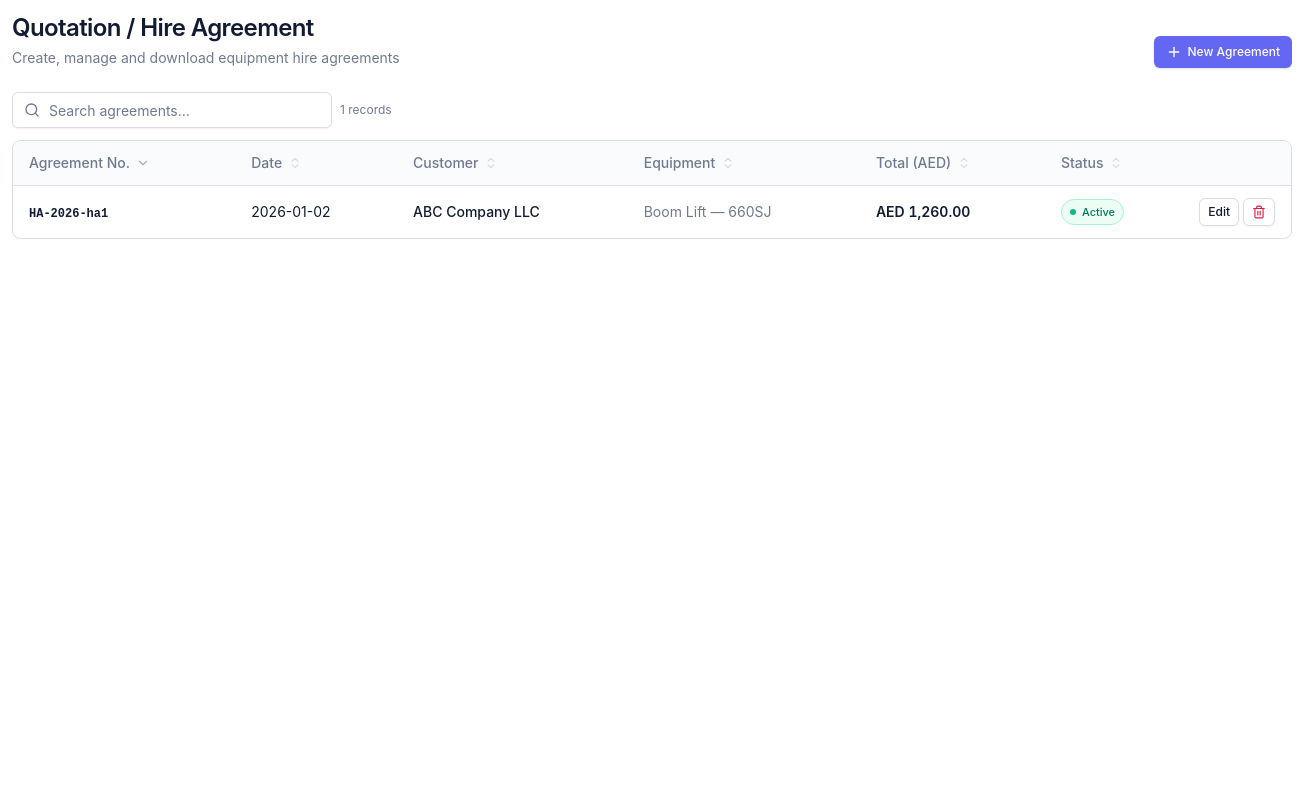
Scenario: HireAgreementPage (API) › disables the quotation select and shows a notice when CRM is inactive
Click the button "Edit" at (1219, 212), box [1199,198,1239,226]
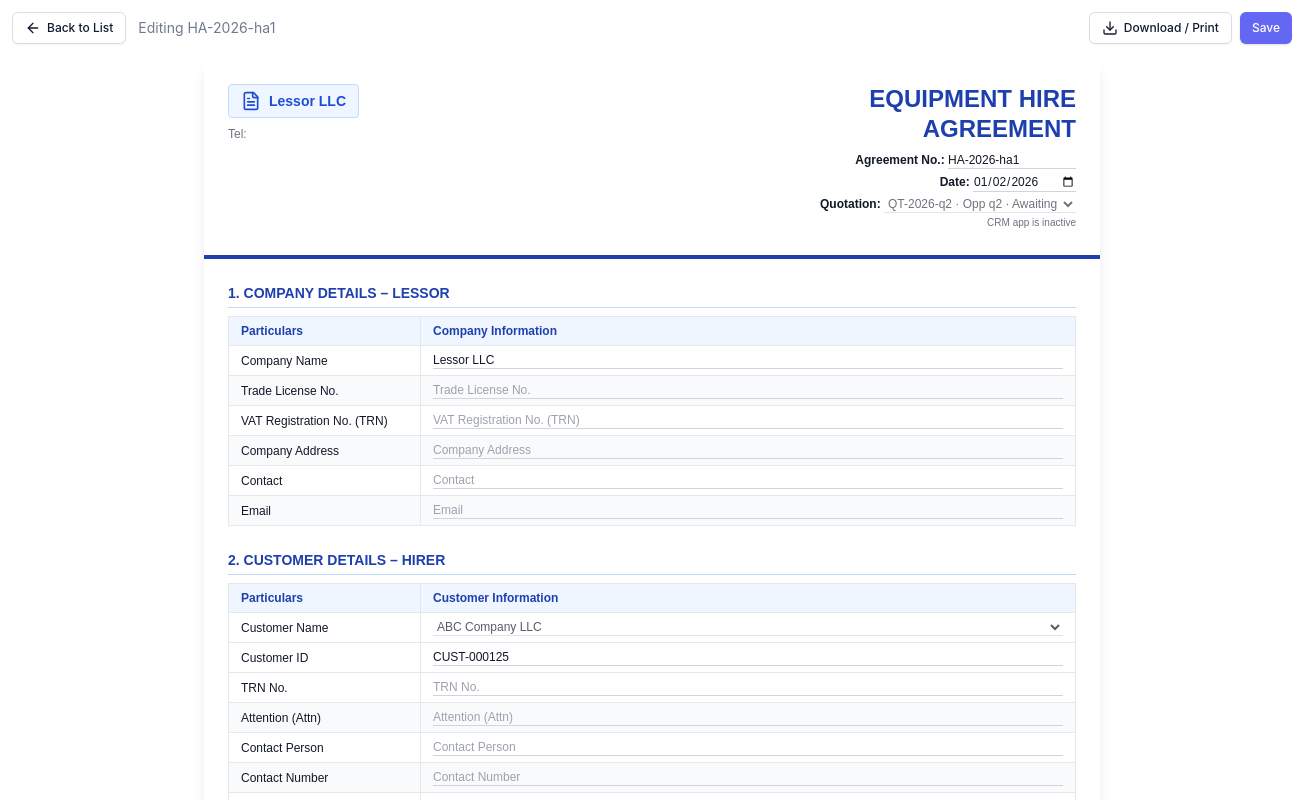
Expected: the dropdown next to "Quotation:" is disabled, [884,196,1076,213]
Expected: the text "CRM app is inactive" is shown, [987,217,1076,228]
